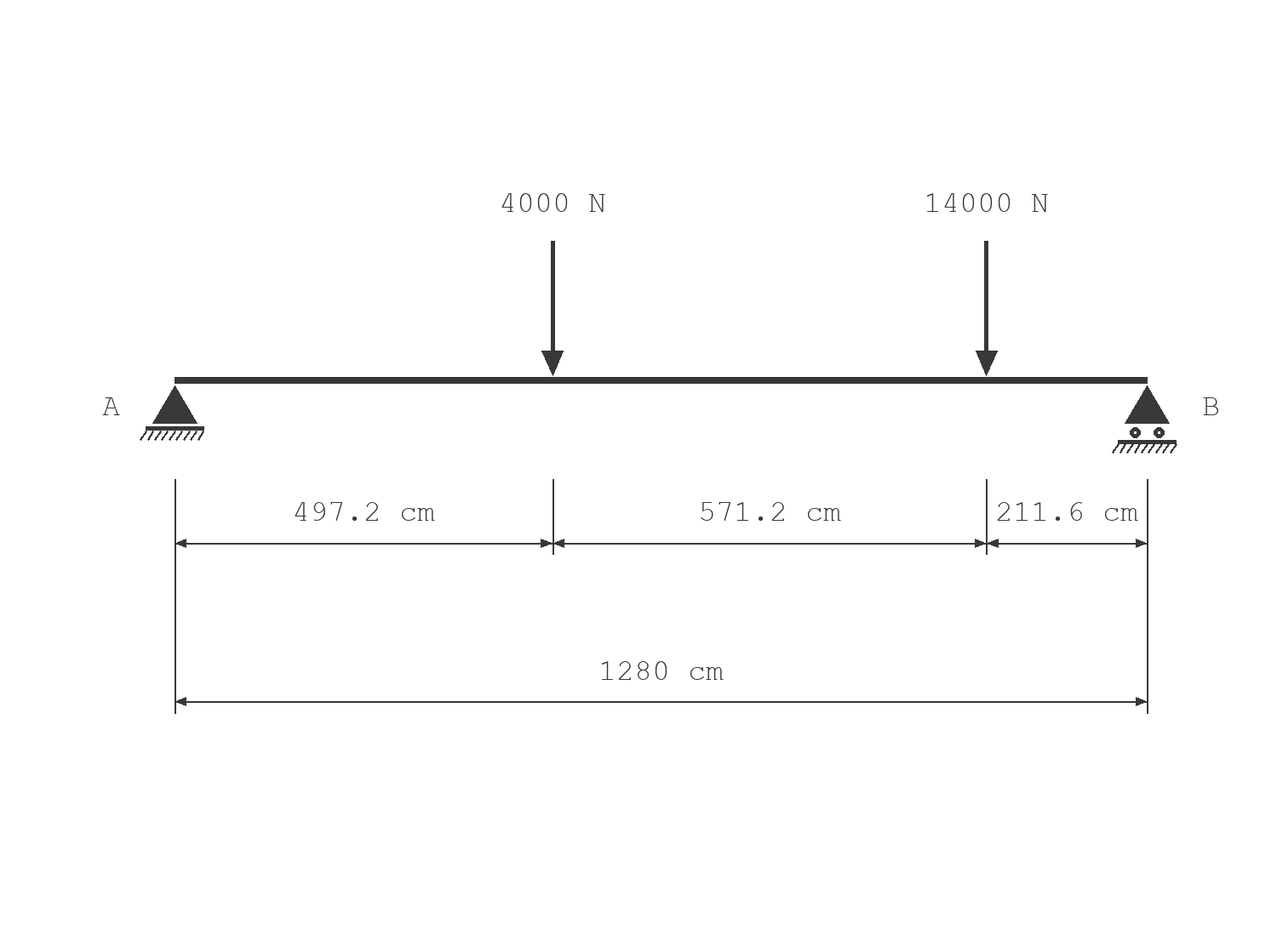pin_support: (140, 385, 204, 441)
point_load: (541, 241, 564, 376), (976, 241, 998, 376)
roller_support: (1112, 385, 1177, 454)
